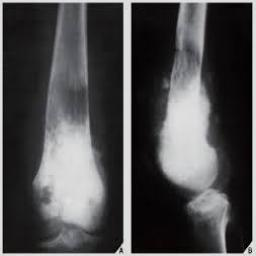cancer: (31, 70, 108, 231), (154, 34, 218, 190)
